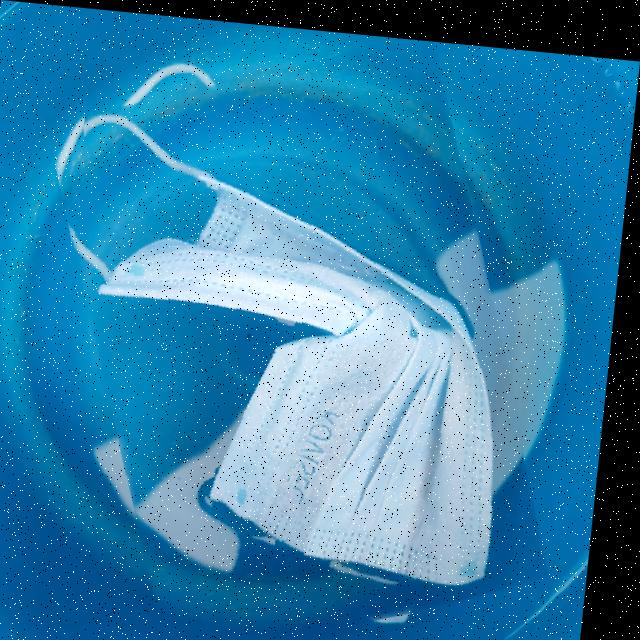litter: (44, 21, 563, 640)
